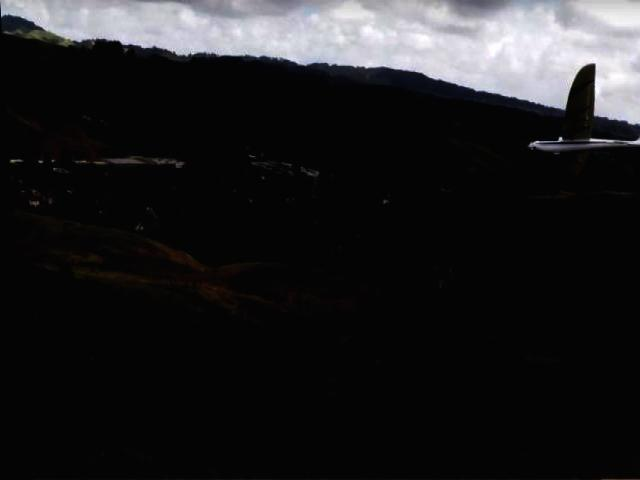iha: (521, 62, 640, 185)
